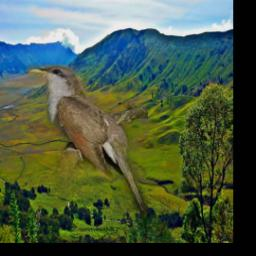Cuckoo: (27, 65, 147, 212)
